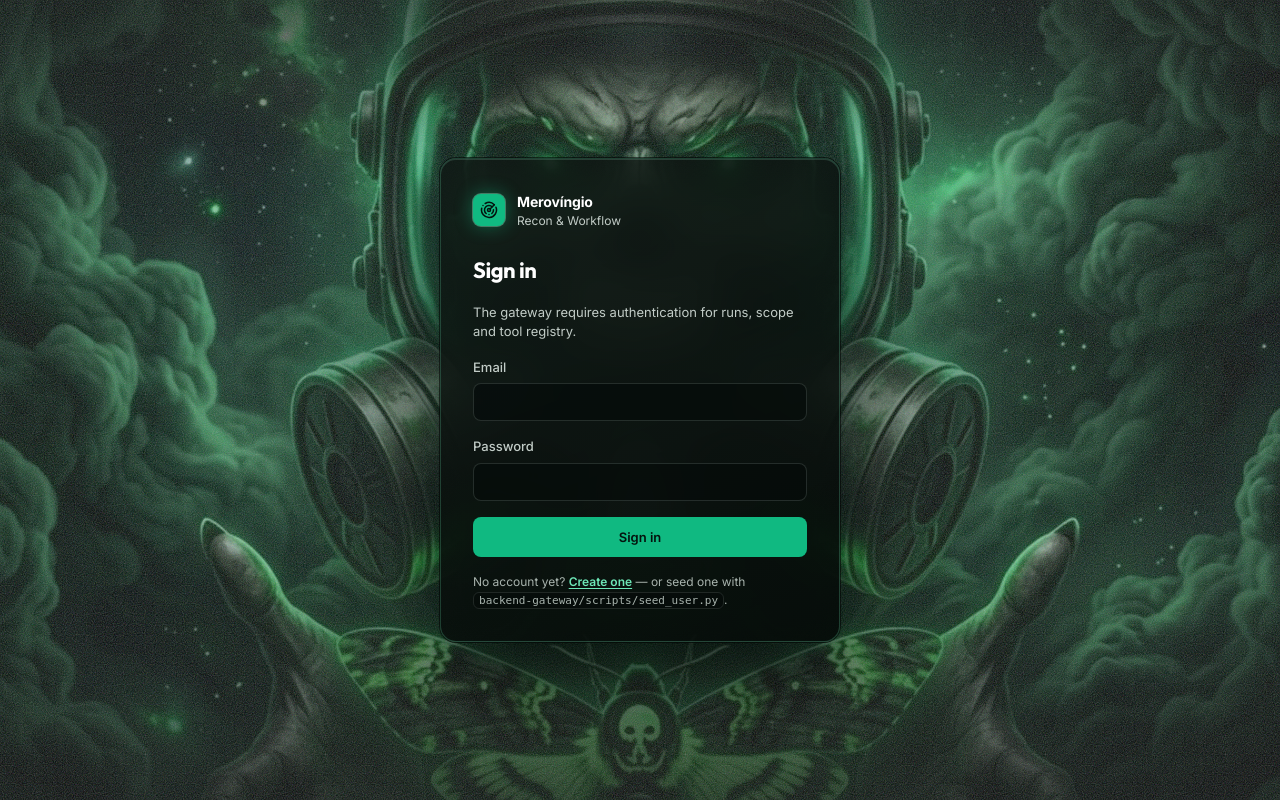
Test: authentication gate › offers a way to create an account from the login screen
The width and height of the screenshot is (1280, 800).
Expected: the heading "Sign in" is shown, x1=473 y1=256 x2=536 y2=284
Click the button "Create one".
click(600, 582)  # box x1=569 y1=573 x2=632 y2=591
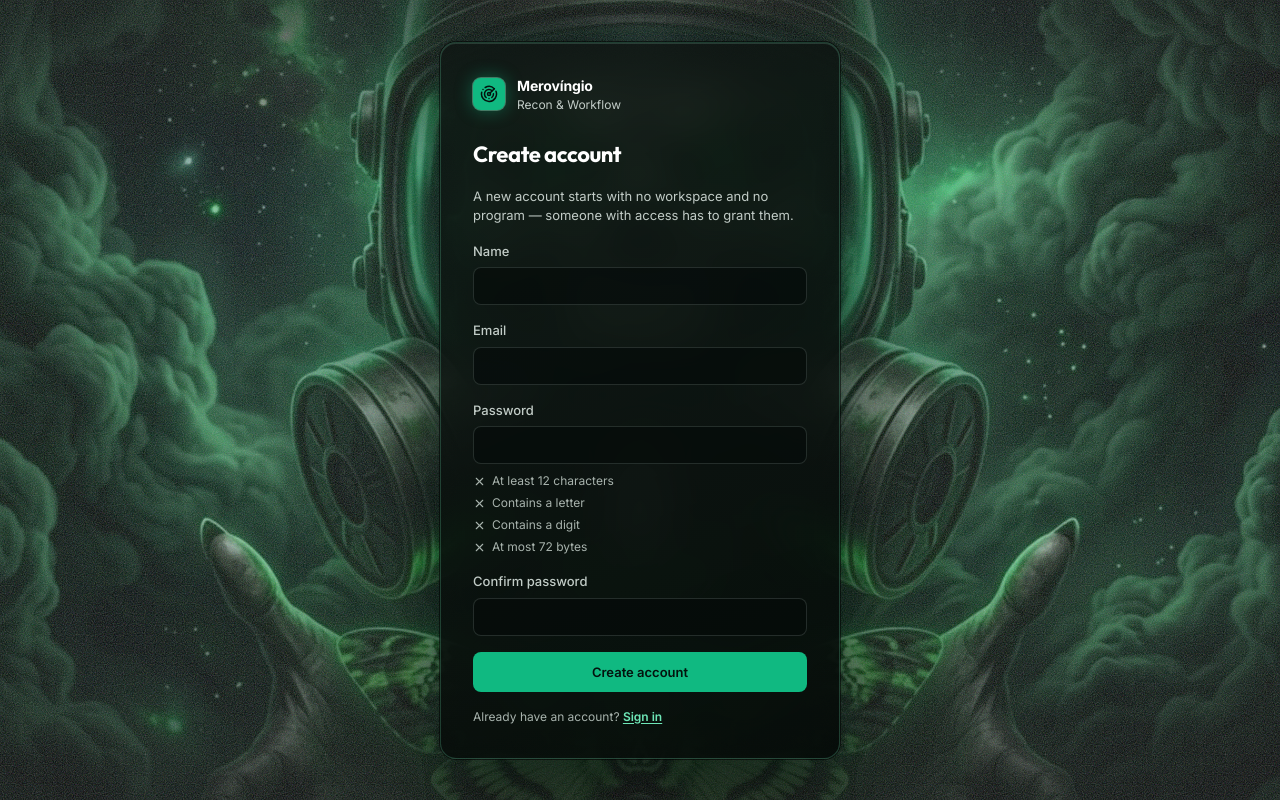
Now the heading "Create account" is shown, box x1=473 y1=140 x2=621 y2=168
